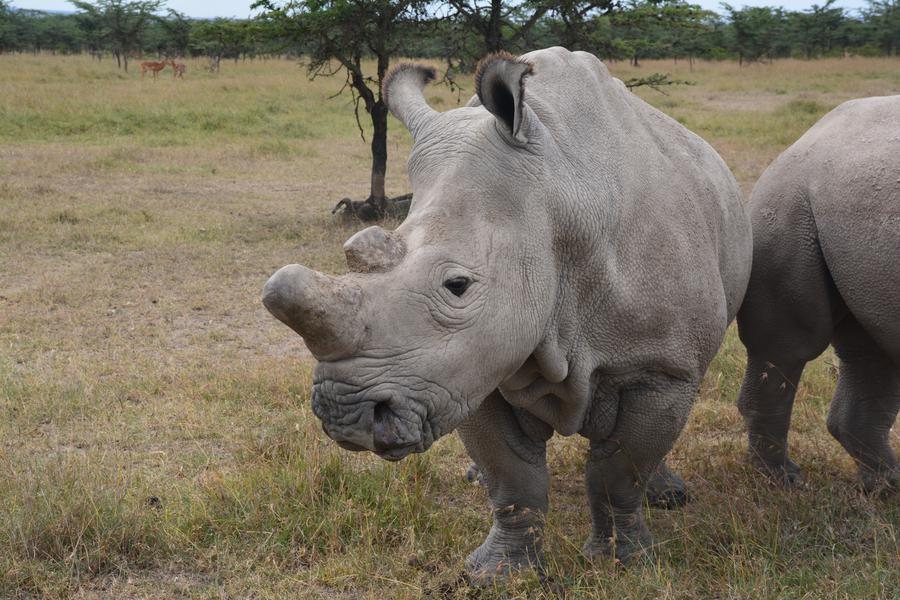rhino: (341, 51, 786, 559), (761, 65, 891, 495)
